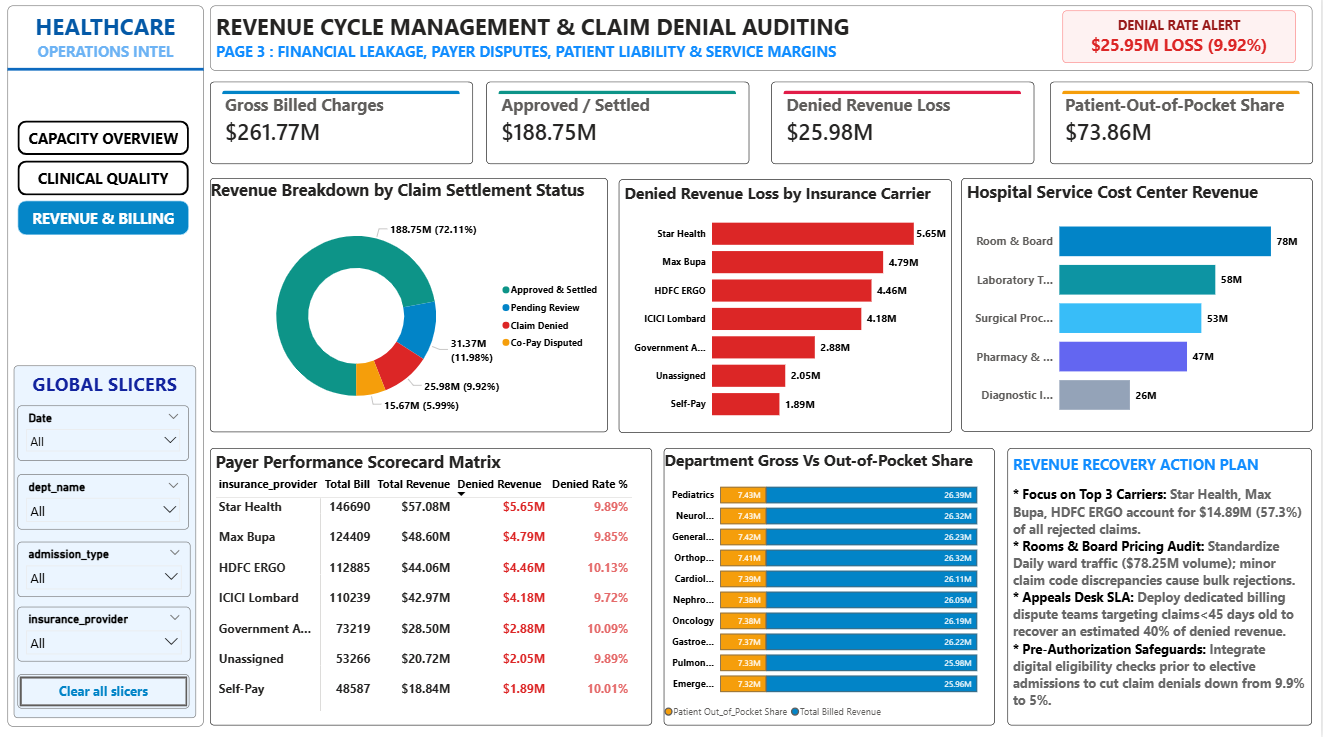

The page's visual inventory and layout, read from the dashboard file:
{"tool":"powerbi","page":{"name":"Financal Revenue & Claim Denial Auditing","canvas":[1920,1080],"ordinal":2},"visuals":[{"type":"textbox","box":[18.1,18.1,284.1,1044.2],"z":0},{"type":"textbox","box":[311.3,18.1,1596.1,94.1],"z":1000},{"type":"textbox","box":[27.1,539.3,264.2,510.3],"z":2000},{"type":"slicer","fields":{"Values":["Dim_Calendar.Date"]},"box":[33.4,596.9,248.3,80],"z":3000},{"type":"slicer","fields":{"Values":["healthcare dim_departments.dept_name"]},"box":[33.4,697,248.3,80],"z":4000},{"type":"slicer","fields":{"Values":["healthcare clean_fact_admission.admission_type"]},"box":[33.4,795.1,250.4,80],"z":5000},{"type":"slicer","fields":{"Values":["healthcare clean_dim_patients.insurance_provider"]},"box":[33.4,889,250.4,79.3],"z":6000},{"type":"actionButton","box":[32.9,985.9,249.1,49.4],"z":7000},{"type":"actionButton","box":[33.4,184,248.3,50.1],"z":8000},{"type":"actionButton","box":[33,242,248,50.7],"z":9000},{"type":"actionButton","box":[33.4,300,248.3,50.1],"z":10000},{"type":"cardVisual","title":"30-Days Readmission Rate %","fields":{"Data":["Measure.Total Billed Revenue"]},"box":[311.6,127.7,380.9,119],"z":11000},{"type":"cardVisual","title":"30-Days Readmission Rate %","fields":{"Data":["Measure.Settled Revenue"]},"box":[712,127.7,380.9,119],"z":12000},{"type":"cardVisual","title":"30-Days Readmission Rate %","fields":{"Data":["Measure.Denied Revenue Loss"]},"box":[1123.2,127.7,380.9,119],"z":13000},{"type":"cardVisual","title":"30-Days Readmission Rate %","fields":{"Data":["Measure.Patient Out_of_Pocket Share"]},"box":[1527.9,127.7,380.9,119],"z":14000},{"type":"donutChart","title":"Revenue Breakdown by Claim Settlement Status","fields":{"Category":["healthcare clean_fact_patient_billing.claim_settlement_status"],"Y":["Measure.Total Billed Revenue"]},"box":[311.6,268.4,575.7,367.9],"z":15000},{"type":"barChart","title":"Denied Revenue Loss by Insurance Carrier","fields":{"Category":["healthcare clean_dim_patients.insurance_provider"],"Y":["Measure.Denied Revenue Loss"]},"box":[902.4,268.8,482.1,366.9],"z":16000},{"type":"barChart","title":"Hospital Service Cost Center Revenue","fields":{"Y":["Measure.Total Billed Revenue"],"Category":["healthcare clean_fact_patient_billing.charge_category"]},"box":[1398.9,267.8,508.5,367.4],"z":17000},{"type":"pivotTable","title":"Payer Performance Scorecard Matrix","fields":{"Rows":["healthcare clean_dim_patients.insurance_provider"],"Values":["Measure.Total Bill","Measure.Total Billed Revenue","Measure.Denied Revenue Loss","Measure.Claim Denied Rate %"]},"box":[311.3,658.7,639.9,401.7],"z":18000},{"type":"hundredPercentStackedBarChart","title":"Department Gross Vs Out-of-Pocket Share","fields":{"Category":["healthcare dim_departments.dept_name"],"Y":["Measure.Patient Out_of_Pocket Share","Measure.Total Billed Revenue"]},"box":[968.5,658,479.6,401.7],"z":19000},{"type":"textbox","box":[1466.5,658,440.8,401.7],"z":20000},{"type":"textbox","box":[1545.2,26,337.6,75.7],"z":21000},{"type":"shape","box":[17.7,101,284.1,18.1],"z":22000}]}

Visuals, with their boxes in screenshot pixels (x1, y1, x2, y2), scaled from the page's 1920x1080 canvas onto the 1323x737 screenshot:
textbox: l=12, t=12, r=208, b=725
textbox: l=215, t=12, r=1314, b=77
textbox: l=19, t=368, r=201, b=716
slicer - Dim_Calendar.Date: l=23, t=407, r=194, b=462
slicer - healthcare dim_departments.dept_name: l=23, t=476, r=194, b=530
slicer - healthcare clean_fact_admission.admission_type: l=23, t=543, r=196, b=597
slicer - healthcare clean_dim_patients.insurance_provider: l=23, t=607, r=196, b=661
actionButton: l=23, t=673, r=194, b=706
actionButton: l=23, t=126, r=194, b=160
actionButton: l=23, t=165, r=194, b=200
actionButton: l=23, t=205, r=194, b=239
"30-Days Readmission Rate %" cardVisual: l=215, t=87, r=477, b=168
"30-Days Readmission Rate %" cardVisual: l=491, t=87, r=753, b=168
"30-Days Readmission Rate %" cardVisual: l=774, t=87, r=1036, b=168
"30-Days Readmission Rate %" cardVisual: l=1053, t=87, r=1315, b=168
"Revenue Breakdown by Claim Settlement Status" donutChart: l=215, t=183, r=611, b=434
"Denied Revenue Loss by Insurance Carrier" barChart: l=622, t=183, r=954, b=434
"Hospital Service Cost Center Revenue" barChart: l=964, t=183, r=1314, b=433
"Payer Performance Scorecard Matrix" pivotTable: l=215, t=450, r=655, b=724
"Department Gross Vs Out-of-Pocket Share" hundredPercentStackedBarChart: l=667, t=449, r=998, b=723
textbox: l=1011, t=449, r=1314, b=723
textbox: l=1065, t=18, r=1297, b=69
shape: l=12, t=69, r=208, b=81
